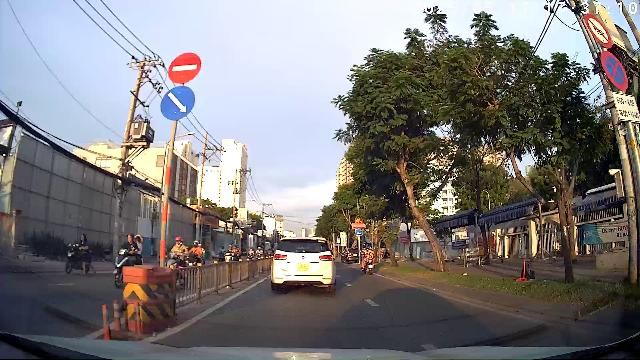128-cam-su-dung-coi: (584, 14, 612, 49)
130-cam-dung-va-do-xe: (601, 50, 628, 91)
